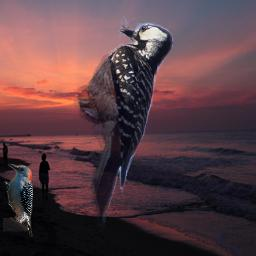Woodpecker: (74, 14, 173, 231), (3, 162, 33, 237)
